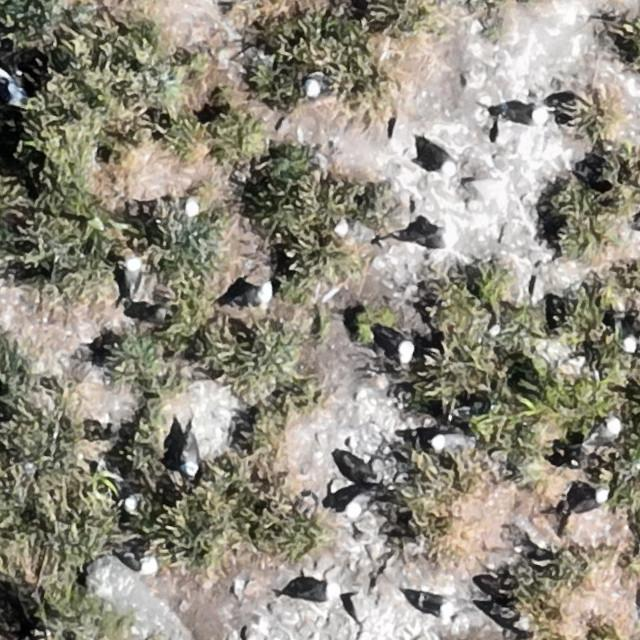umineko: (375, 327, 413, 362), (408, 590, 452, 616), (123, 490, 160, 519), (121, 551, 159, 578), (586, 417, 620, 446), (300, 579, 339, 602), (422, 226, 458, 249), (423, 146, 454, 172), (347, 492, 373, 520), (160, 201, 204, 217), (508, 108, 549, 125), (574, 493, 606, 514), (620, 315, 638, 351), (124, 256, 142, 291), (183, 442, 200, 476), (245, 283, 271, 305), (307, 69, 327, 97), (431, 434, 465, 450), (2, 80, 22, 104)
